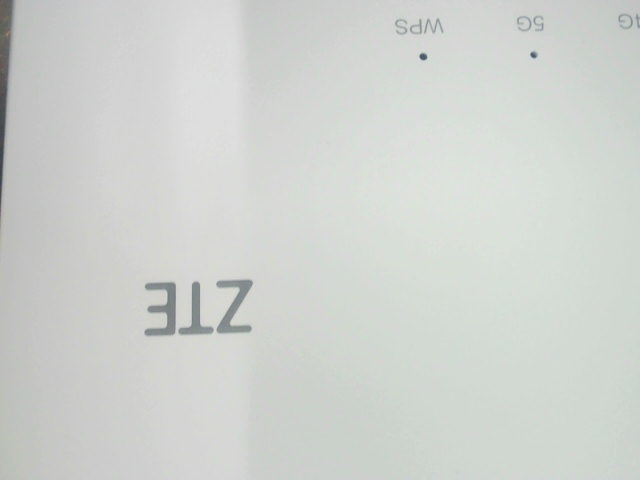AO_ZTESmall: (129, 257, 269, 350)
